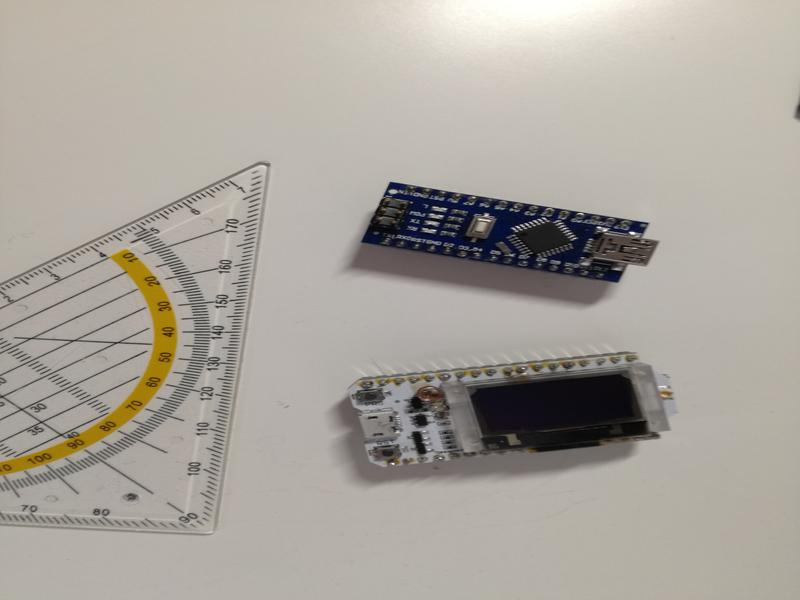Arduino_Nano: (358, 176, 659, 304)
Heltec_ESP32_Lora: (343, 349, 687, 474)
